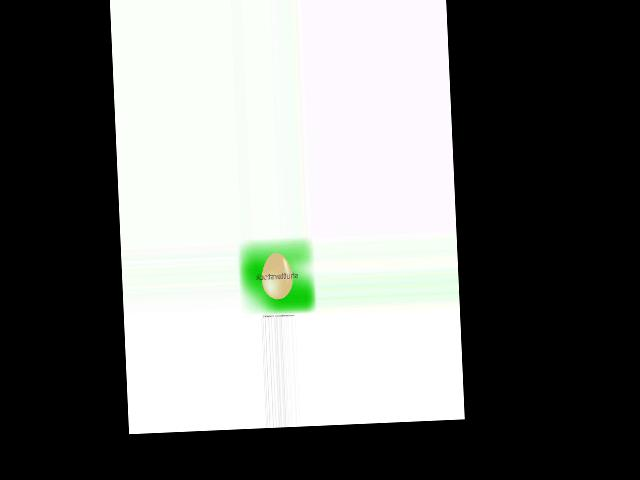egg: (260, 252, 293, 299)
